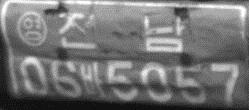0: (139, 60, 172, 103), (19, 56, 48, 97)
5: (173, 63, 206, 104), (106, 59, 138, 100)
6: (51, 58, 80, 98)
7: (209, 62, 240, 106)
바: (81, 61, 104, 98)
영: (17, 11, 48, 47)
전남_D: (55, 12, 185, 53)
